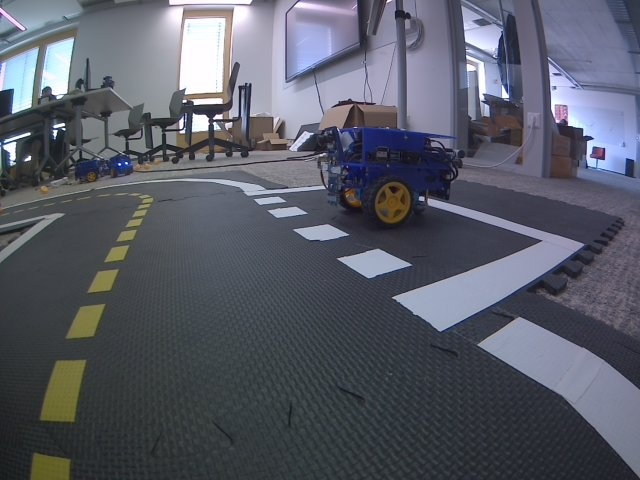Bot: (318, 126, 458, 230), (74, 160, 100, 185), (109, 156, 132, 178), (101, 76, 115, 89)
occupiedSlot: (243, 180, 586, 333)
